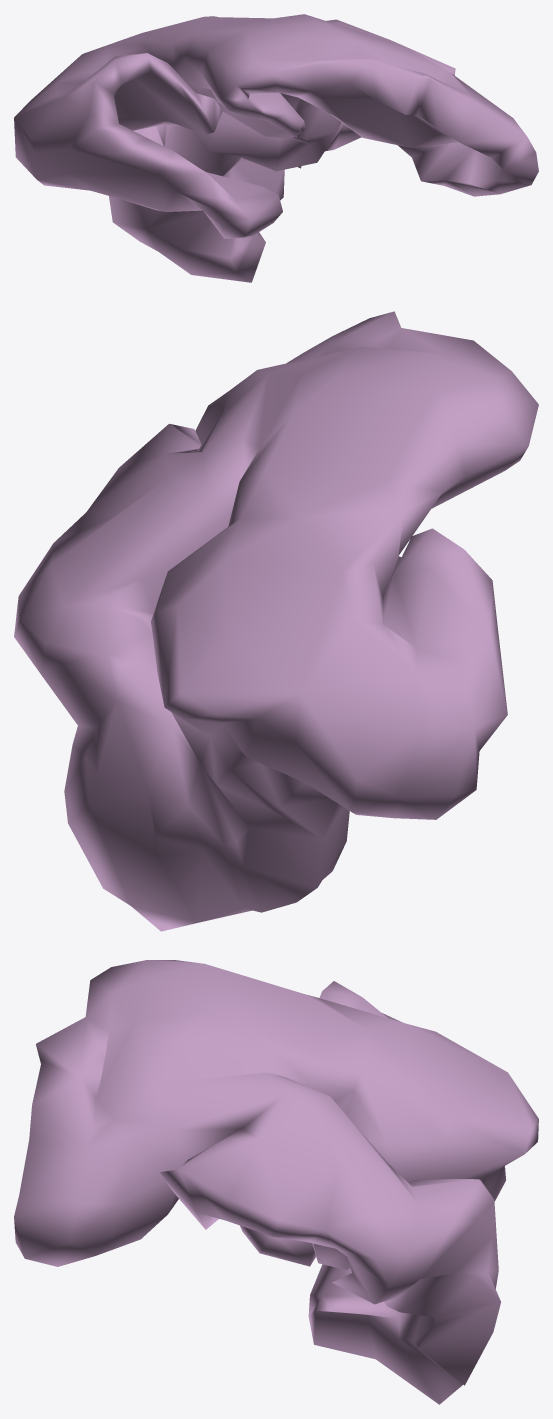
The picture shows the model from 3 angles, top to bottom: view 1: azimuth 30°, elevation 25°; view 2: azimuth 150°, elevation 25°; view 3: azimuth 270°, elevation 25°; orthographic projection. The views are drawn at different scales.
Visible parts, largest first — view 1: 左侧枕极; view 2: 左侧枕极; view 3: 左侧枕极.
Boxes of the visible parts, x1=… form: 左侧枕极: x1=14, y1=14, x2=538, y2=282; 左侧枕极: x1=14, y1=311, x2=538, y2=931; 左侧枕极: x1=14, y1=960, x2=538, y2=1404.
Size of the model in its own units: 0.0466 by 0.0418 by 0.0509.
